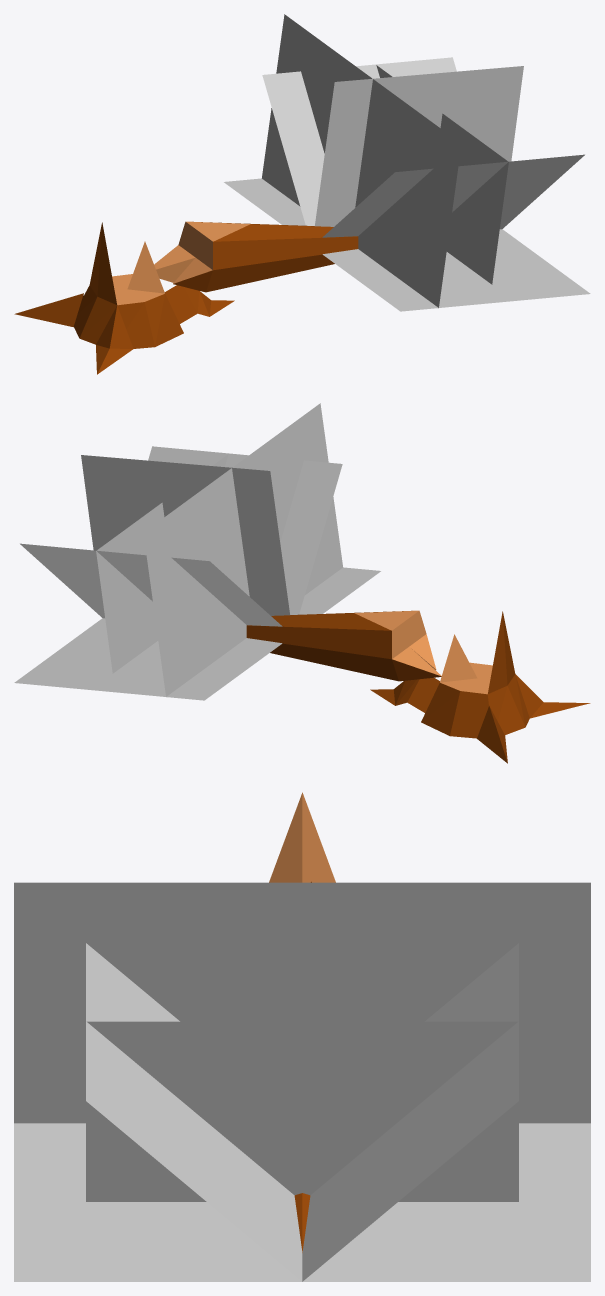
File: fallentree.obj
3 views of the same model, one above another, from view 1: azimuth 30°, elevation 25°; view 2: azimuth 150°, elevation 25°; view 3: azimuth 270°, elevation 25° (orthographic). The views are drawn at different scales.
Visible parts, largest first — view 1: fallentree_back, fallentree_front; view 2: fallentree_back, fallentree_front; view 3: fallentree_back, fallentree_front.
Part boxes in pixels (bbox=[...]): fallentree_back: bbox=[14, 14, 590, 374]; fallentree_front: bbox=[224, 178, 305, 225]; fallentree_back: bbox=[20, 403, 590, 763]; fallentree_front: bbox=[14, 618, 282, 700]; fallentree_back: bbox=[14, 792, 590, 1281]; fallentree_front: bbox=[303, 1123, 590, 1281].
Bounding box in the file's own units: 3.91 × 1.55 × 2.56.
